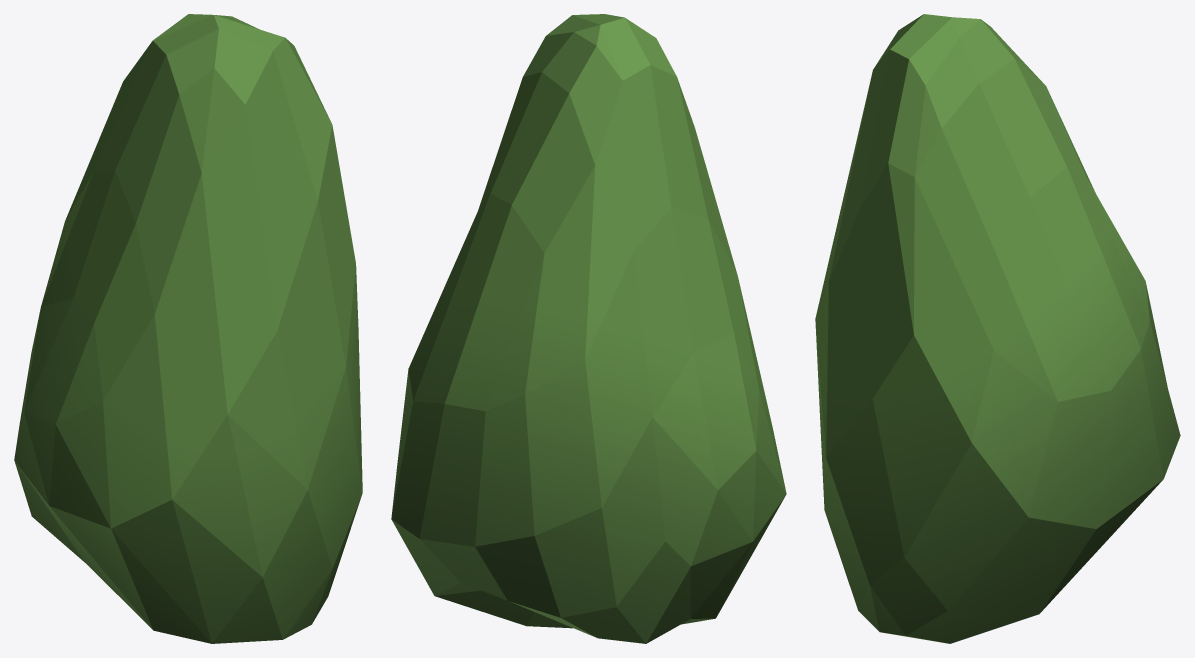
Rendered from Birch-Bush-02.fbx.
The picture shows the model from 3 angles, left to right: view 1: azimuth 30°, elevation 25°; view 2: azimuth 150°, elevation 25°; view 3: azimuth 270°, elevation 25°; orthographic projection. The views are drawn at different scales.
Visible parts, largest first — view 1: Birch-Bush-02; view 2: Birch-Bush-02; view 3: Birch-Bush-02.
Part boxes in pixels (box(x1,y1,x2,y2)): Birch-Bush-02: box(14, 14, 362, 643); Birch-Bush-02: box(391, 14, 786, 643); Birch-Bush-02: box(815, 14, 1180, 643).
Bounding box in the file's own units: 384 × 710 × 394.
1 material, 1 textured.
